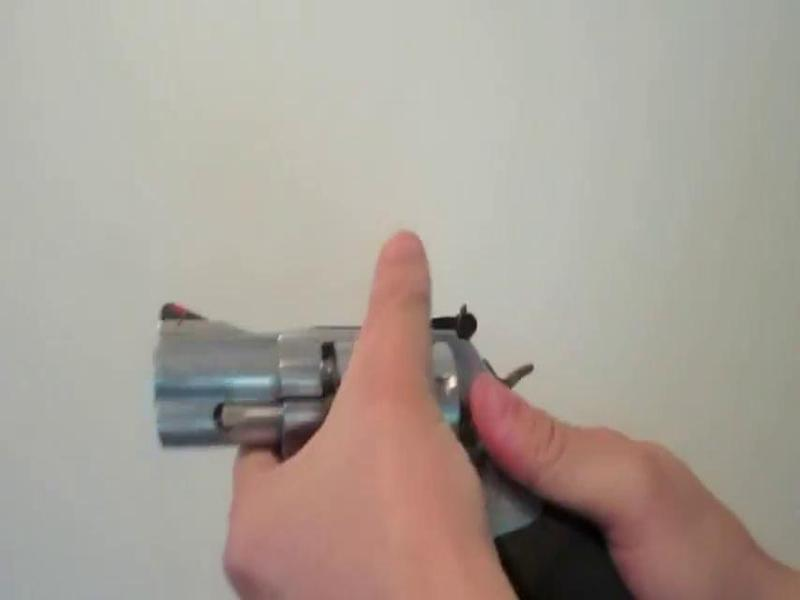Revolver: (143, 269, 669, 600)
